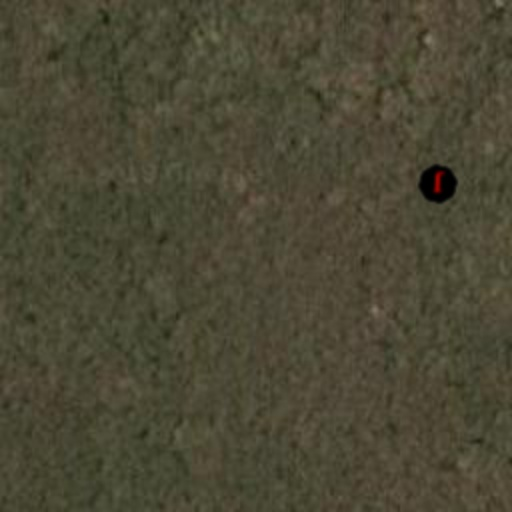octagon: (414, 160, 462, 208)
